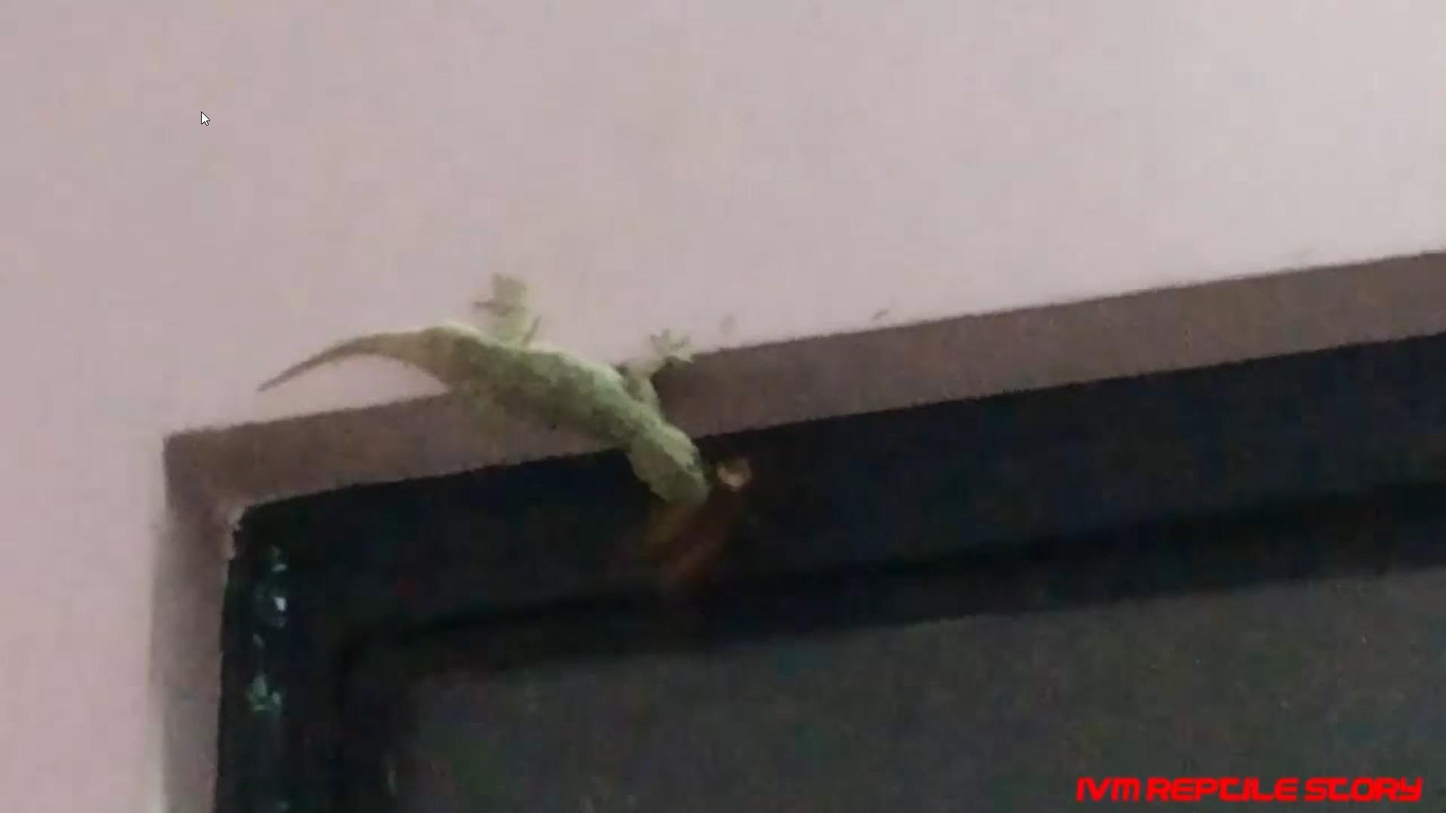cockroach: (649, 455, 754, 581)
lizard: (251, 272, 715, 516)
